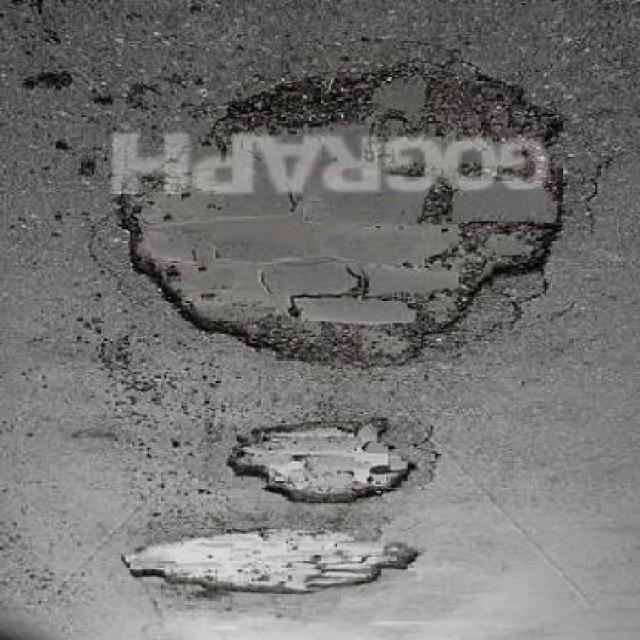pothole1: (113, 63, 581, 380), (122, 538, 426, 597), (224, 420, 421, 509)
